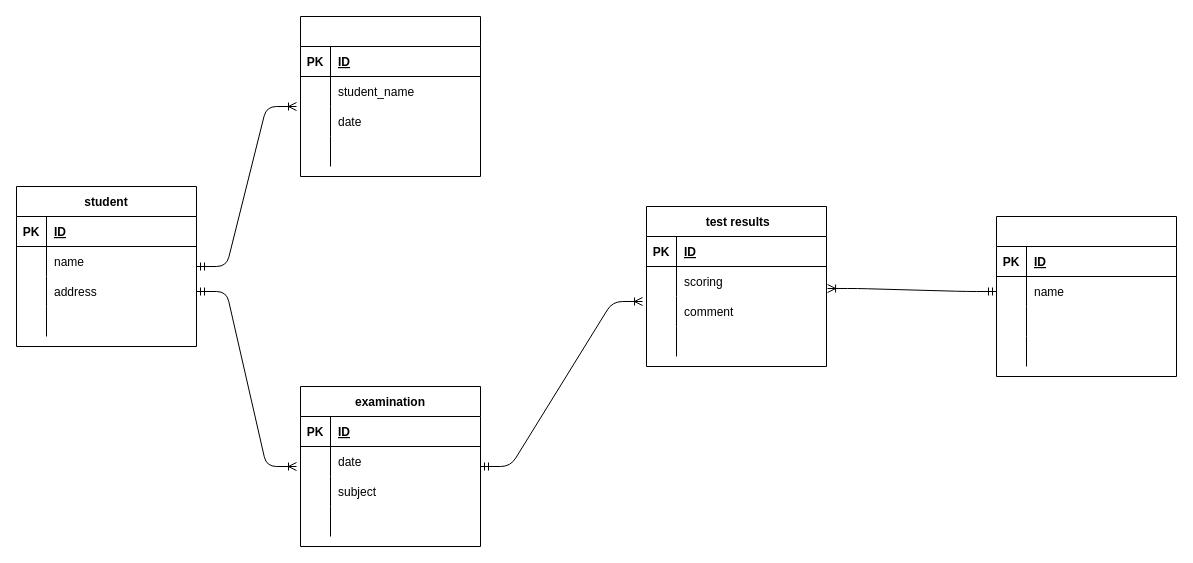
Some shapes in this 1193 by 563 pixel diagram are drawn without their labels. Here are the shapes that lost their labels. From the top down, the box of each, then its label:
(300, 16, 480, 176): application
(996, 216, 1176, 376): teacher
